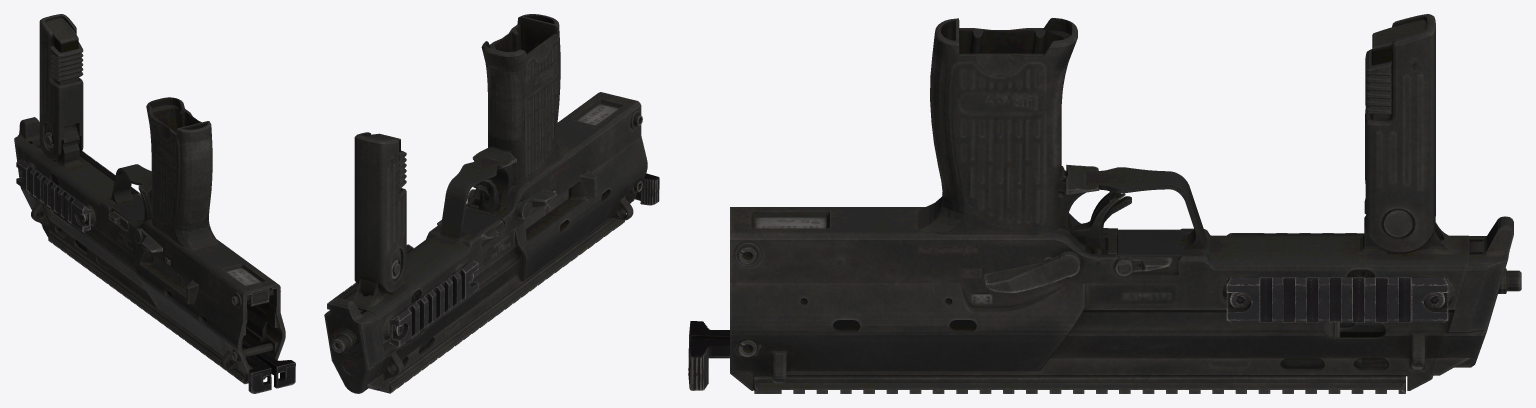
3 renders of one model, left to right at view 1: azimuth 30°, elevation 25°; view 2: azimuth 150°, elevation 25°; view 3: azimuth 270°, elevation 25°, orthographic. The views are drawn at different scales.
Parts seen in each view (by area): view 1: TW_5ba26383d4351e00334c93d9_PZ_Import; view 2: TW_5ba26383d4351e00334c93d9_PZ_Import; view 3: TW_5ba26383d4351e00334c93d9_PZ_Import.
Boxes of the visible parts, left/top/right/bottom form: TW_5ba26383d4351e00334c93d9_PZ_Import: left=14, top=14, right=295, bottom=393; TW_5ba26383d4351e00334c93d9_PZ_Import: left=324, top=14, right=659, bottom=393; TW_5ba26383d4351e00334c93d9_PZ_Import: left=688, top=14, right=1521, bottom=393.
Size of the model in its own units: 0.0293 by 0.2074 by 0.0999.
Materials: 1 (1 with a texture image).
